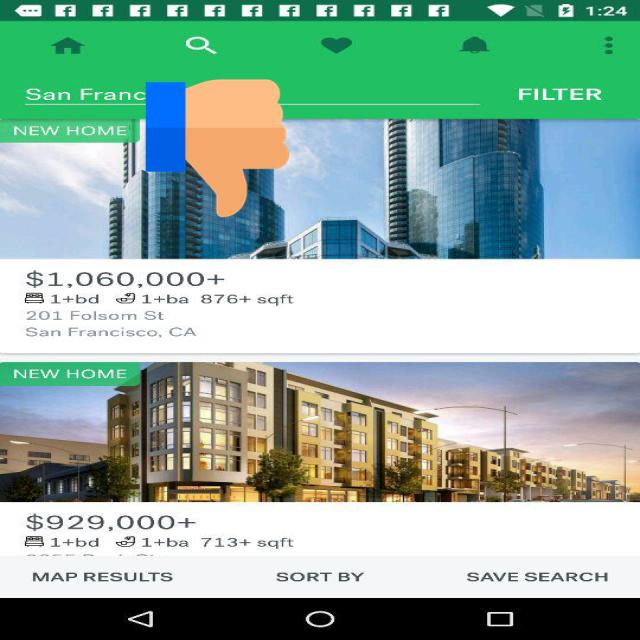obstruction: (146, 76, 289, 221)
